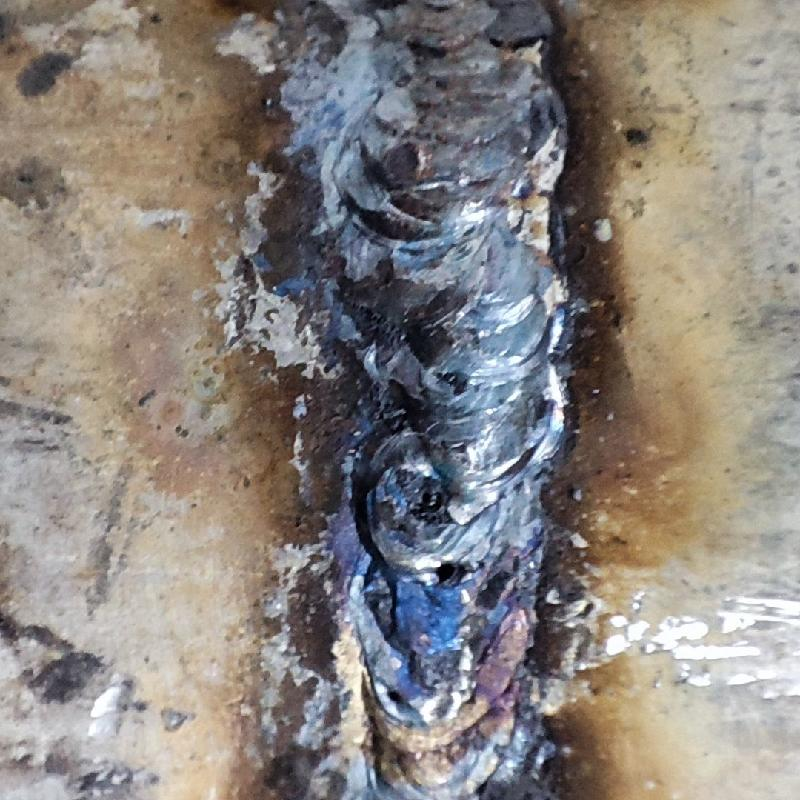Surface_pores: (419, 549, 470, 596), (370, 676, 420, 720)
